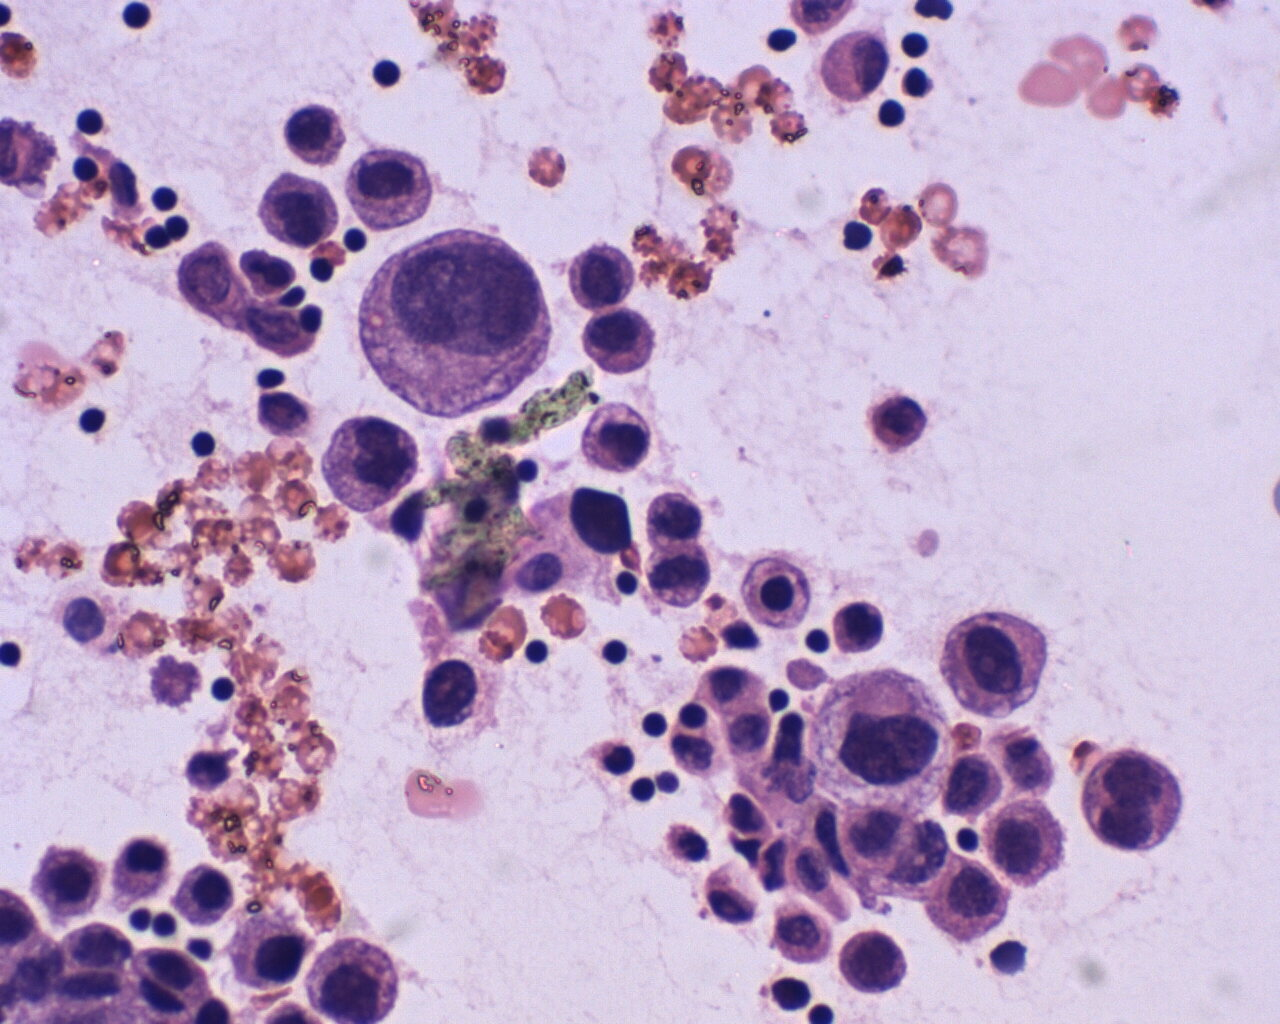ab: (357, 227, 554, 415), (810, 671, 946, 811), (941, 601, 1054, 728), (1077, 744, 1193, 860), (317, 408, 421, 512), (305, 936, 402, 1023), (927, 853, 1013, 951), (259, 171, 344, 255), (576, 393, 660, 474), (563, 236, 642, 312), (836, 924, 914, 997), (580, 309, 661, 378), (279, 98, 354, 166)
lymph: (866, 88, 908, 134), (69, 100, 108, 139), (598, 632, 635, 671), (798, 624, 836, 660)
